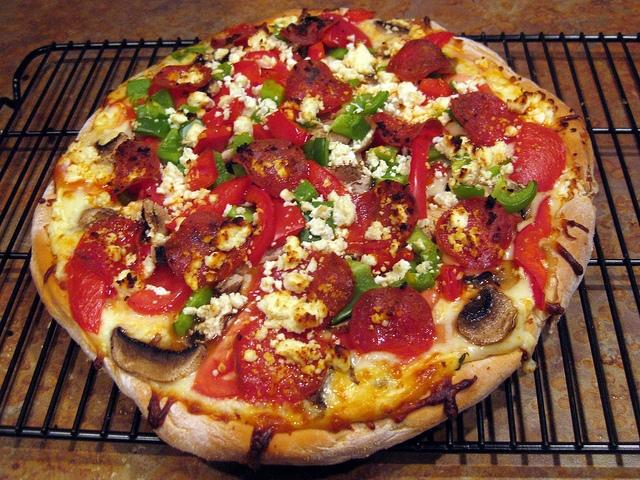bell pepper: (515, 195, 551, 312), (331, 258, 384, 326), (408, 118, 443, 219), (68, 254, 105, 335), (331, 91, 389, 140), (242, 185, 276, 266), (266, 194, 306, 255), (172, 285, 215, 337), (306, 158, 351, 201), (492, 174, 538, 214), (210, 175, 254, 216), (266, 110, 314, 147), (366, 146, 410, 186), (296, 201, 335, 243), (188, 147, 218, 191), (194, 124, 232, 156), (384, 270, 436, 292), (210, 150, 236, 191), (156, 128, 183, 167), (132, 113, 170, 140), (418, 77, 453, 106), (233, 61, 268, 85), (260, 78, 286, 108), (126, 78, 152, 106), (420, 244, 440, 280), (326, 47, 377, 61), (226, 134, 254, 158), (292, 180, 319, 203), (260, 68, 288, 90), (422, 31, 457, 48), (453, 185, 485, 201), (146, 98, 170, 119), (252, 123, 278, 141), (212, 62, 232, 82), (306, 41, 326, 60), (452, 153, 470, 172), (428, 146, 446, 162), (300, 140, 314, 160), (176, 104, 202, 114), (250, 108, 263, 124), (486, 166, 502, 178), (304, 118, 319, 128), (346, 79, 361, 87), (374, 67, 388, 73), (272, 24, 280, 34)
mushroom: (110, 326, 210, 382), (457, 284, 519, 342), (141, 198, 170, 244), (94, 132, 128, 158), (78, 208, 118, 229), (324, 164, 364, 182), (214, 274, 244, 295), (375, 20, 409, 36), (444, 121, 468, 136)
